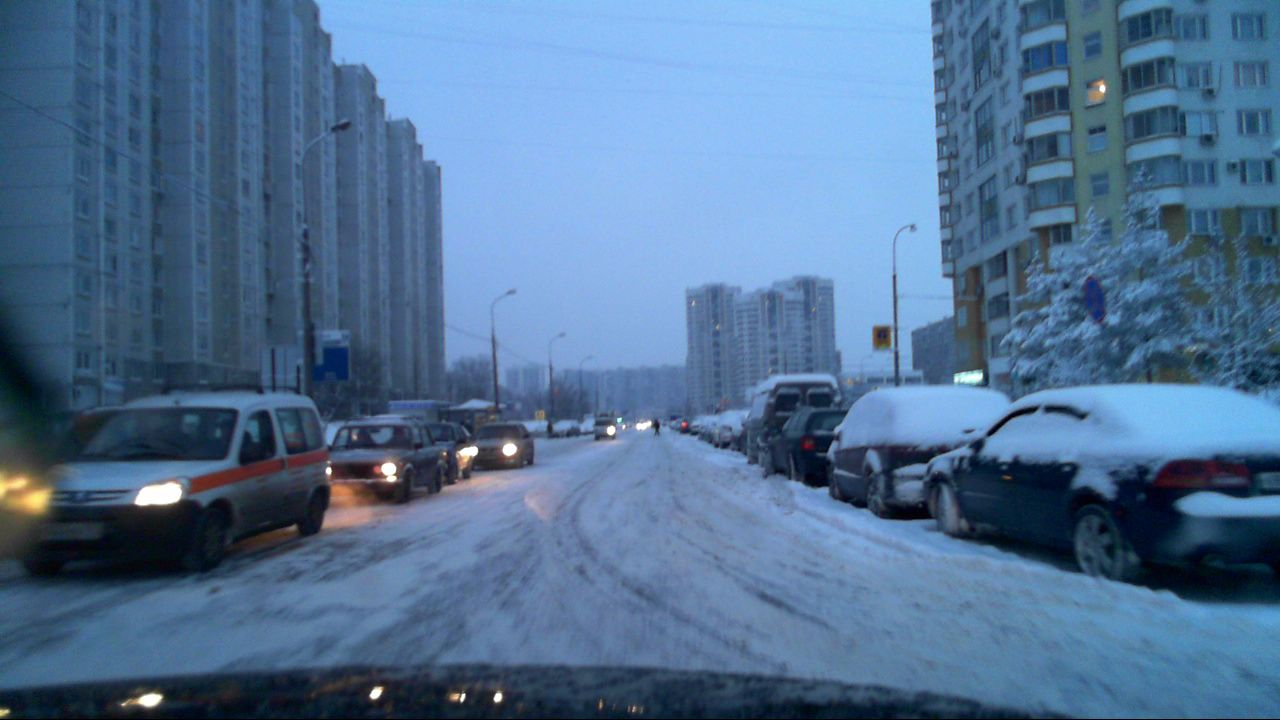No Parking: (1081, 276, 1110, 328)
